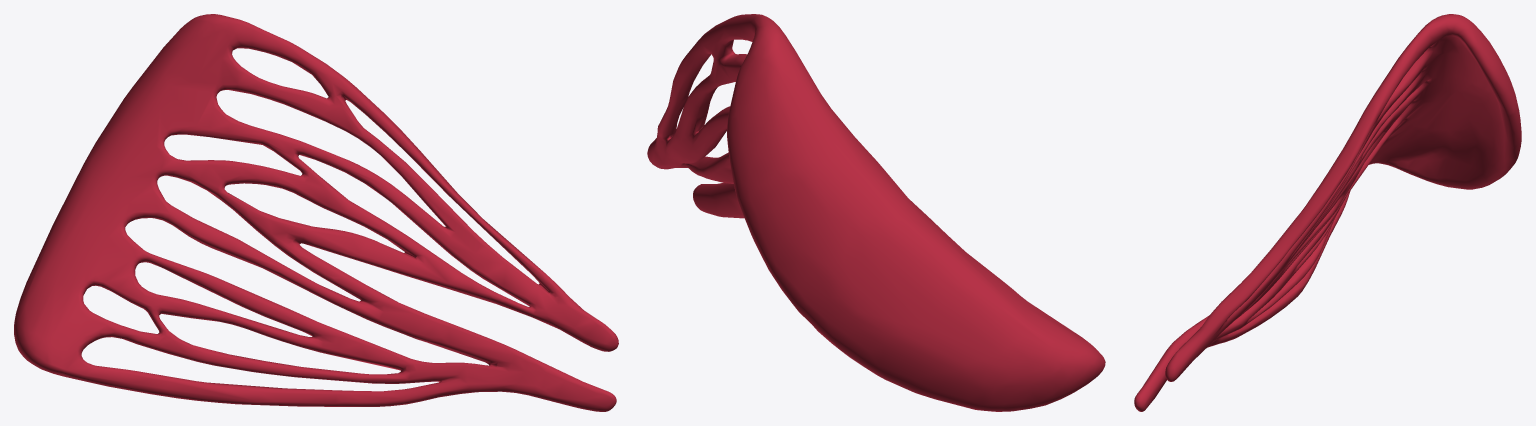
Rendered from posterior-leaflet-of-left-atrioventricular-valve.glb.
3 views of the same model, side by side, from view 1: azimuth 30°, elevation 25°; view 2: azimuth 150°, elevation 25°; view 3: azimuth 270°, elevation 25° (orthographic). The views are drawn at different scales.
Parts seen in each view (by area): view 1: Posterior leaflet of left atrioventricular valve; view 2: Posterior leaflet of left atrioventricular valve; view 3: Posterior leaflet of left atrioventricular valve.
Part boxes in pixels (box(x1,y1,x2,y2)): Posterior leaflet of left atrioventricular valve: box(14, 14, 618, 411); Posterior leaflet of left atrioventricular valve: box(647, 14, 1105, 411); Posterior leaflet of left atrioventricular valve: box(1134, 14, 1521, 411).
Bounding box in the file's own units: 0.051 × 0.0332 × 0.0392.
